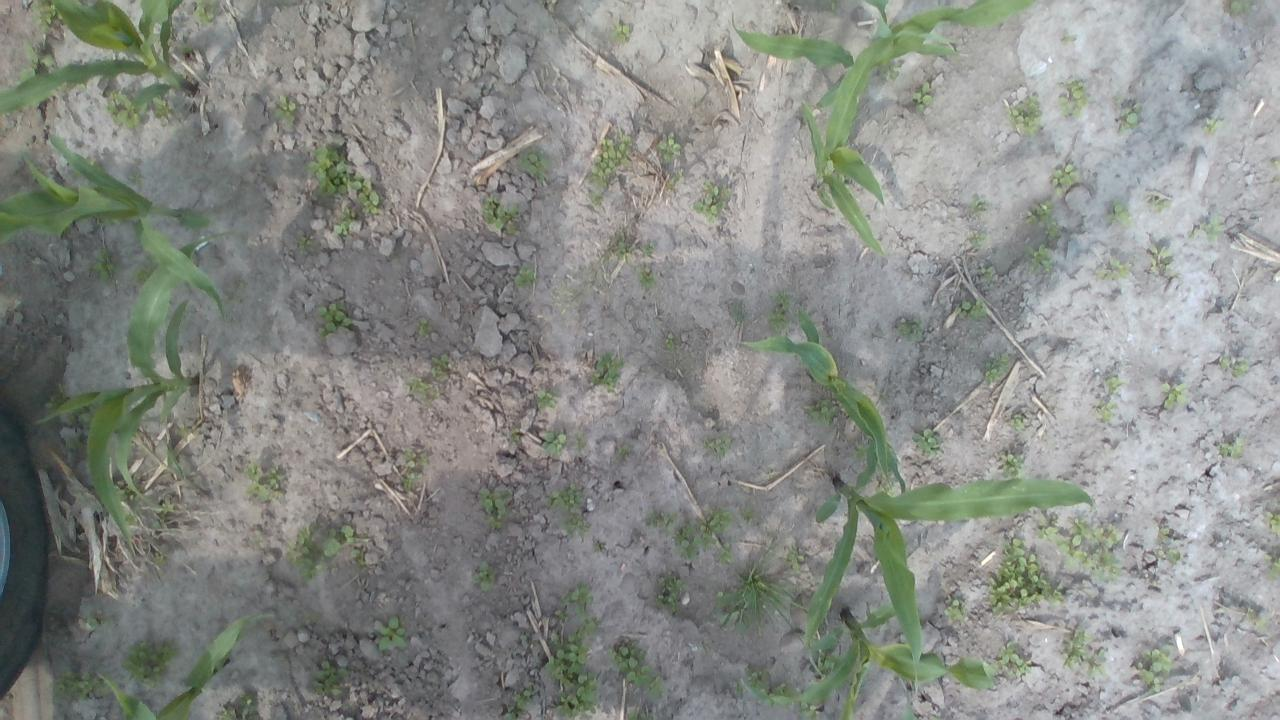Maize: (800, 474, 1100, 700), (32, 232, 230, 558), (0, 128, 223, 320), (734, 302, 910, 497), (732, 0, 1036, 109), (732, 606, 995, 720), (0, 0, 198, 117), (92, 613, 260, 720), (799, 90, 885, 256)
Weeds: (991, 536, 1067, 614), (542, 621, 600, 720), (715, 568, 791, 633), (1057, 516, 1122, 581), (585, 131, 633, 204), (671, 511, 734, 565), (608, 638, 664, 698), (306, 142, 362, 198), (120, 637, 176, 689), (46, 669, 112, 705), (284, 526, 324, 583), (1062, 626, 1106, 676), (16, 38, 57, 86), (309, 658, 352, 699), (1136, 646, 1173, 692), (693, 180, 731, 224), (102, 87, 142, 128), (480, 196, 520, 236), (1008, 94, 1044, 138), (990, 639, 1031, 677), (589, 350, 626, 391), (1055, 78, 1089, 122), (478, 487, 514, 528), (244, 461, 279, 500), (316, 302, 354, 337), (322, 526, 361, 560), (376, 615, 410, 653), (217, 688, 257, 720), (654, 576, 686, 614), (560, 583, 594, 618), (804, 397, 843, 427), (516, 149, 550, 182), (87, 246, 119, 280), (546, 482, 584, 510), (29, 0, 62, 32), (1049, 164, 1080, 198), (768, 292, 794, 332), (1024, 242, 1056, 274), (501, 688, 532, 720), (1093, 256, 1131, 282), (1116, 102, 1144, 135), (356, 178, 381, 214), (1024, 198, 1054, 228), (911, 429, 942, 457), (984, 351, 1010, 384), (1146, 244, 1172, 277), (656, 132, 684, 162), (1197, 214, 1226, 242), (268, 93, 298, 120), (994, 452, 1024, 479), (471, 560, 496, 592), (646, 509, 676, 534), (703, 434, 733, 459), (958, 296, 988, 320), (1108, 198, 1132, 228), (911, 82, 934, 113), (1160, 382, 1186, 409), (540, 430, 566, 456), (192, 0, 216, 28), (744, 664, 770, 689), (896, 318, 924, 341), (150, 95, 174, 121), (333, 209, 356, 236), (560, 514, 588, 536), (1217, 437, 1245, 458), (513, 263, 538, 286), (942, 599, 967, 620), (1221, 357, 1248, 376), (813, 652, 835, 675), (1092, 401, 1116, 422), (407, 377, 429, 399), (610, 22, 632, 44), (430, 353, 450, 377), (879, 60, 903, 80), (62, 433, 88, 450), (1245, 607, 1265, 629), (799, 700, 821, 720), (1265, 552, 1280, 580), (1264, 510, 1280, 536), (537, 390, 557, 410), (130, 264, 152, 282), (784, 550, 806, 568), (1228, 0, 1254, 15), (56, 80, 85, 93), (638, 266, 656, 286), (876, 479, 896, 496), (1147, 197, 1169, 212), (1200, 118, 1218, 136), (1038, 524, 1058, 540), (1104, 374, 1124, 390), (1007, 413, 1025, 430), (79, 404, 95, 423), (612, 239, 628, 257), (120, 510, 138, 526), (162, 498, 177, 514), (972, 234, 988, 249), (1155, 525, 1170, 541), (128, 174, 145, 188), (402, 472, 416, 489), (296, 234, 312, 248), (418, 318, 429, 338), (404, 448, 416, 466), (641, 240, 656, 254), (86, 613, 100, 628), (118, 487, 134, 500), (1046, 224, 1058, 241), (628, 709, 646, 720), (969, 198, 987, 209), (856, 446, 870, 459), (790, 596, 804, 608), (1168, 548, 1180, 562), (984, 266, 995, 280), (664, 337, 673, 351), (742, 510, 754, 520), (772, 686, 786, 694), (510, 429, 520, 440), (152, 520, 162, 530), (618, 446, 626, 454)
